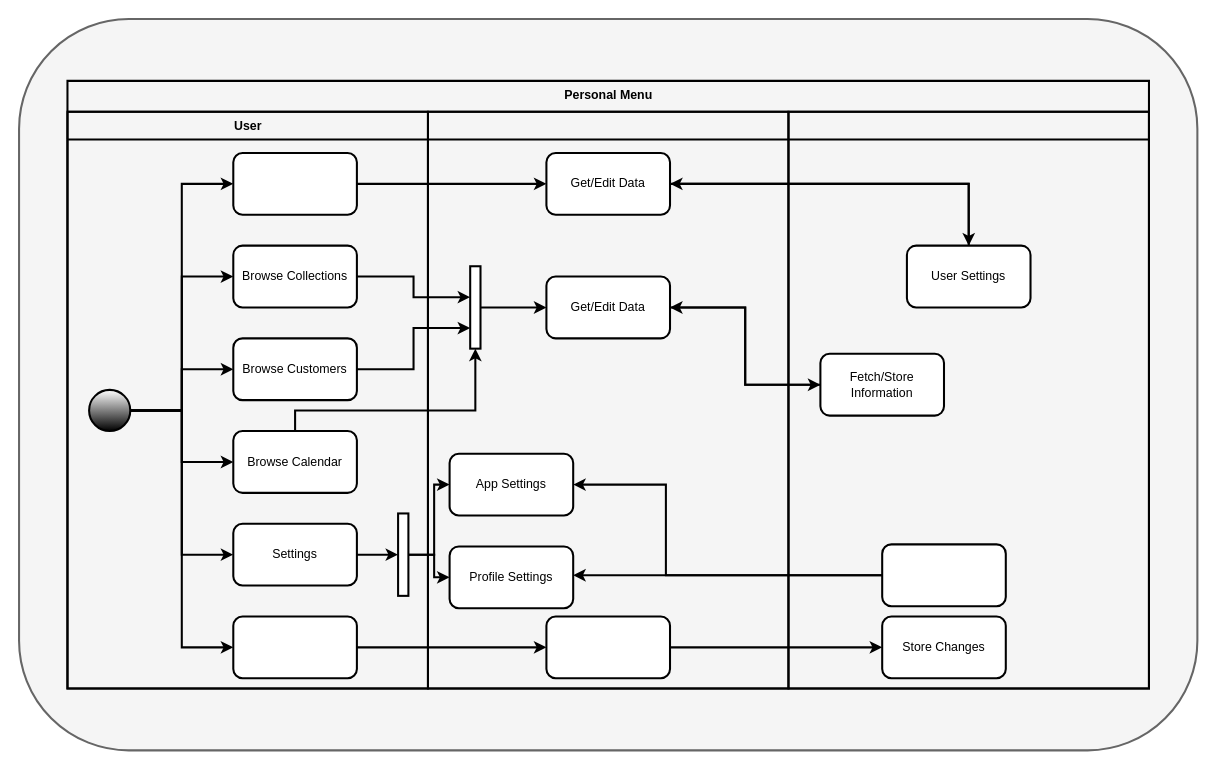
This 1215x768 diagram has some shape labels left out. The box of each missing label's shape, as (x1, y1, x2, y2) in pixels:
Browse Personal Page: (232, 151, 357, 215)
Database: (787, 110, 1149, 689)
Get Data: (881, 543, 1006, 607)
Logout: (232, 615, 357, 679)
Save Changes Locally: (545, 615, 671, 679)
System: (426, 110, 789, 689)
